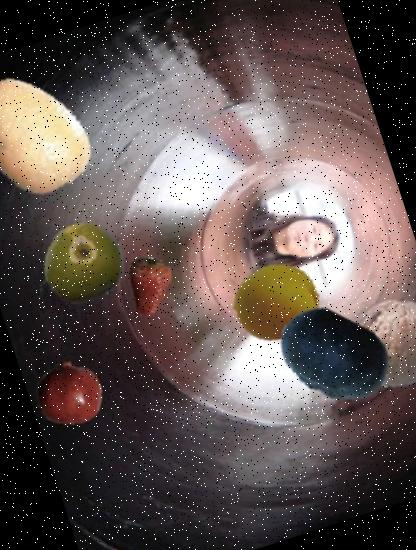Blueberry: (261, 283, 406, 428)
Kumquats: (0, 56, 109, 214)
Maracuja: (27, 210, 137, 320)
Peach: (220, 246, 332, 358)
Pomegranate: (27, 351, 111, 435)
Strawberry: (109, 249, 183, 323)
Walnut: (340, 284, 416, 400)
